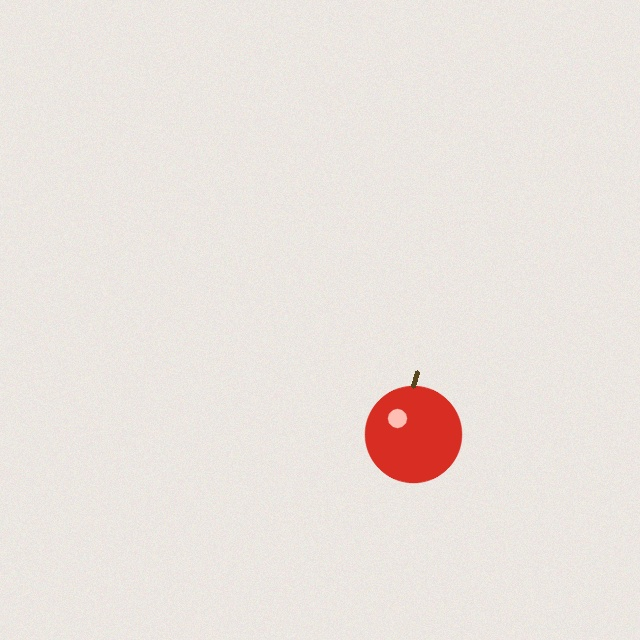Fresh apple: (365, 372, 461, 482)
